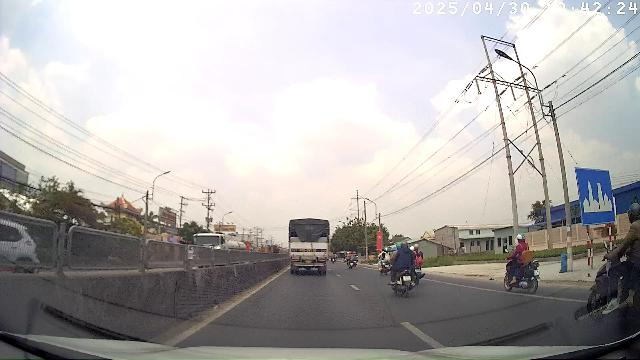420-bat-dau-khu-dong-dan-cu: (578, 168, 614, 221)
